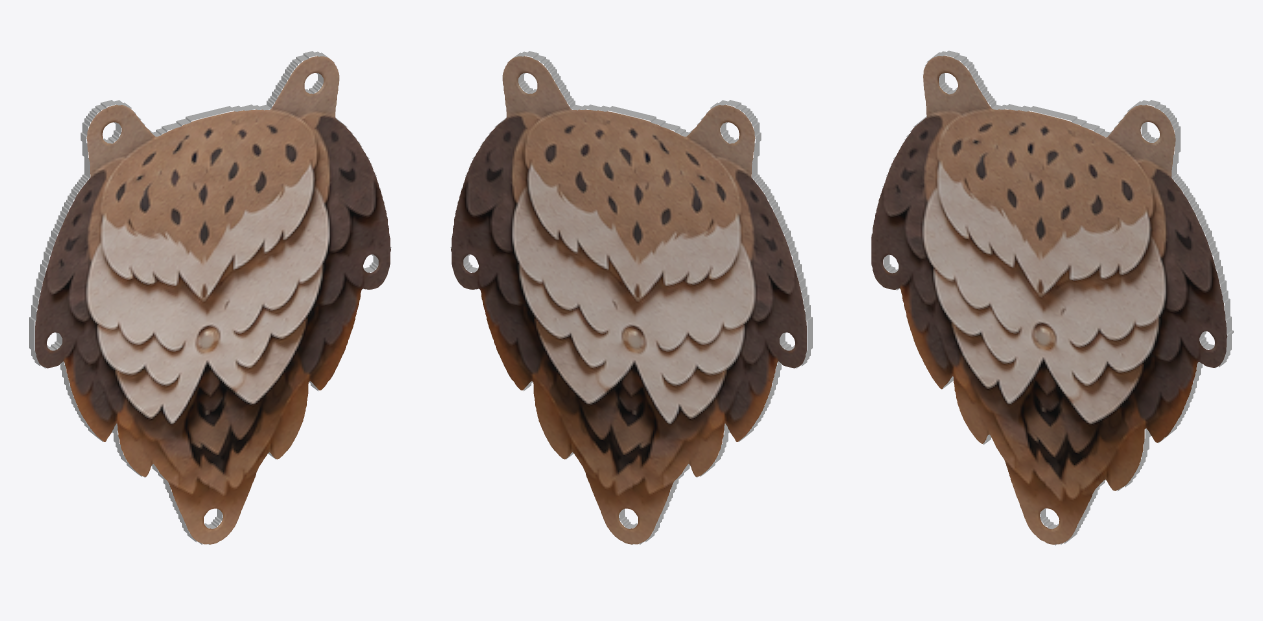
File: TorsoMain.glb
The picture shows the model from 3 angles, left to right: view 1: azimuth 30°, elevation 25°; view 2: azimuth 150°, elevation 25°; view 3: azimuth 330°, elevation 25°; orthographic projection.
Parts seen in each view (by area): view 1: PaperVolume; view 2: PaperVolume; view 3: PaperVolume.
Part boxes in pixels (box(x1,y1,x2,y2)): PaperVolume: box(29, 51, 391, 544); PaperVolume: box(450, 51, 812, 544); PaperVolume: box(871, 50, 1233, 545).
Size of the model in its own units: 3.11 by 3.8 by 0.08.
3 materials, 2 textured.
